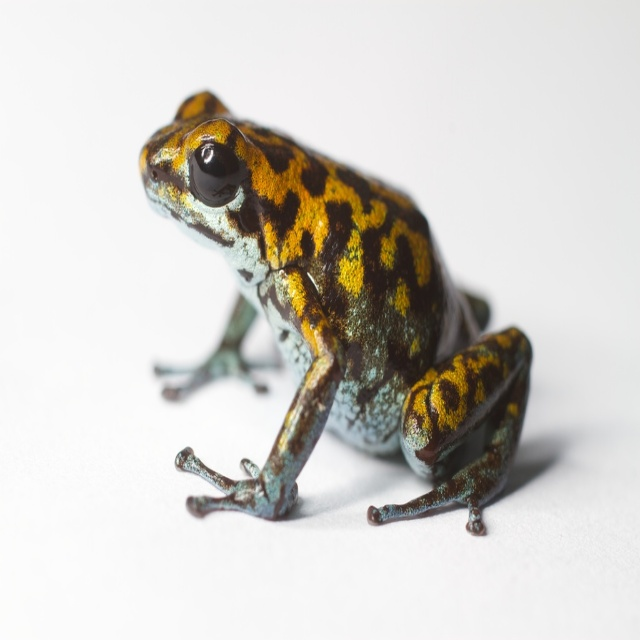Frog: (139, 88, 532, 537)
